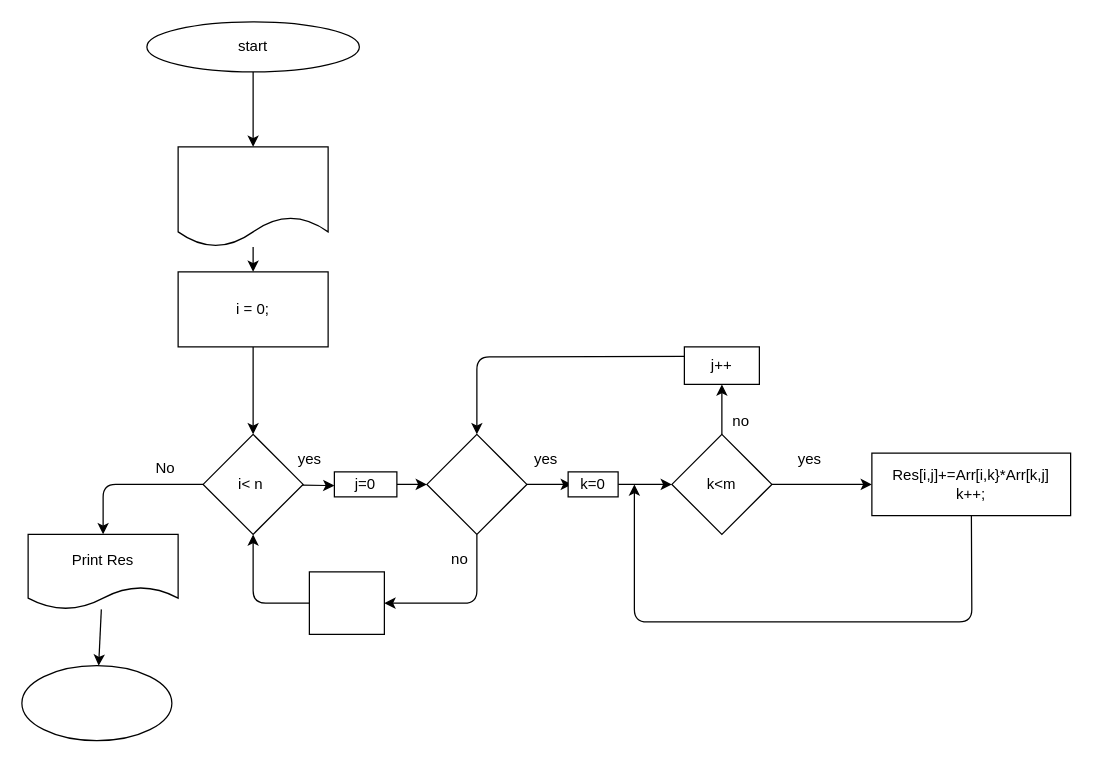
The diagram is 1093 pixels wide and 763 high, and some of its shapes have lost their labels. Here are the shapes that lost their labels. From the top down, the centre of each, then its label:
At [252,196]: "input Arr1[n,m}, Arr2[m,p]".
At [476,483]: "j<p".
At [346,602]: "i++".
At [96,702]: "Finish".
